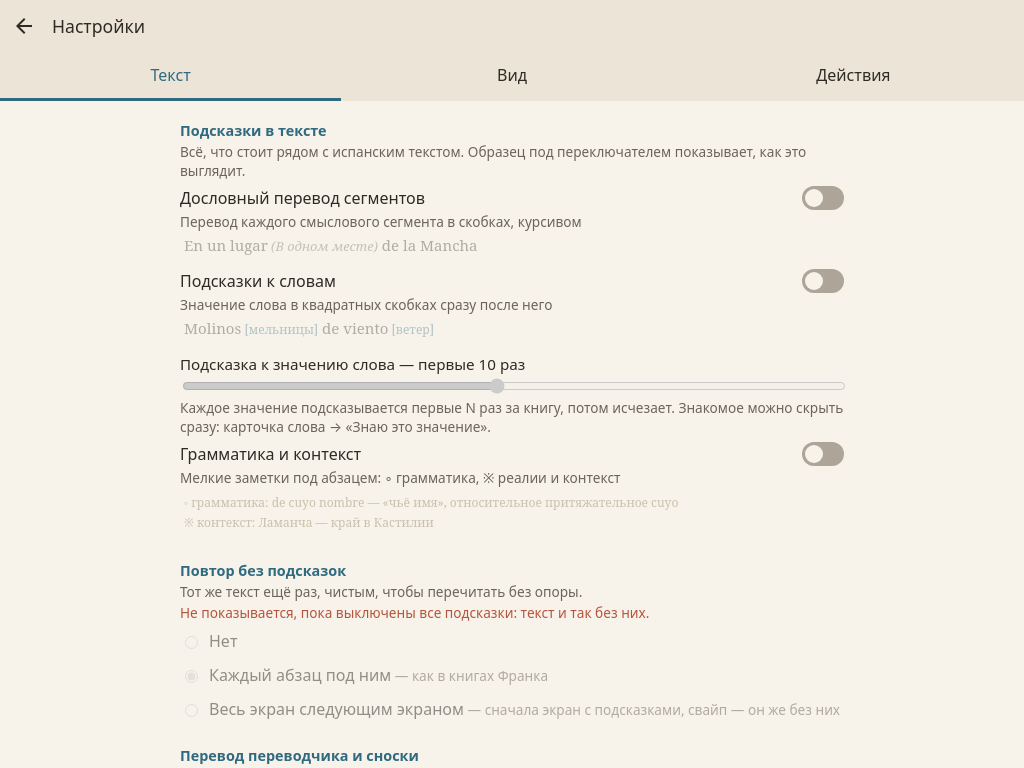
Scenario: reader screens › has settings tabs for text, look and actions, with samples and the repeat off while every hint is off
The image size is (1024, 768).
Earlier steps of the test are not shown.
Later steps or results of the test are not shown.
Expected: the text with test id "repeat-off" is shown, left=180, top=603, right=649, bottom=622
Click the tab "Вид".
click(512, 76)  # box left=341, top=52, right=683, bottom=101
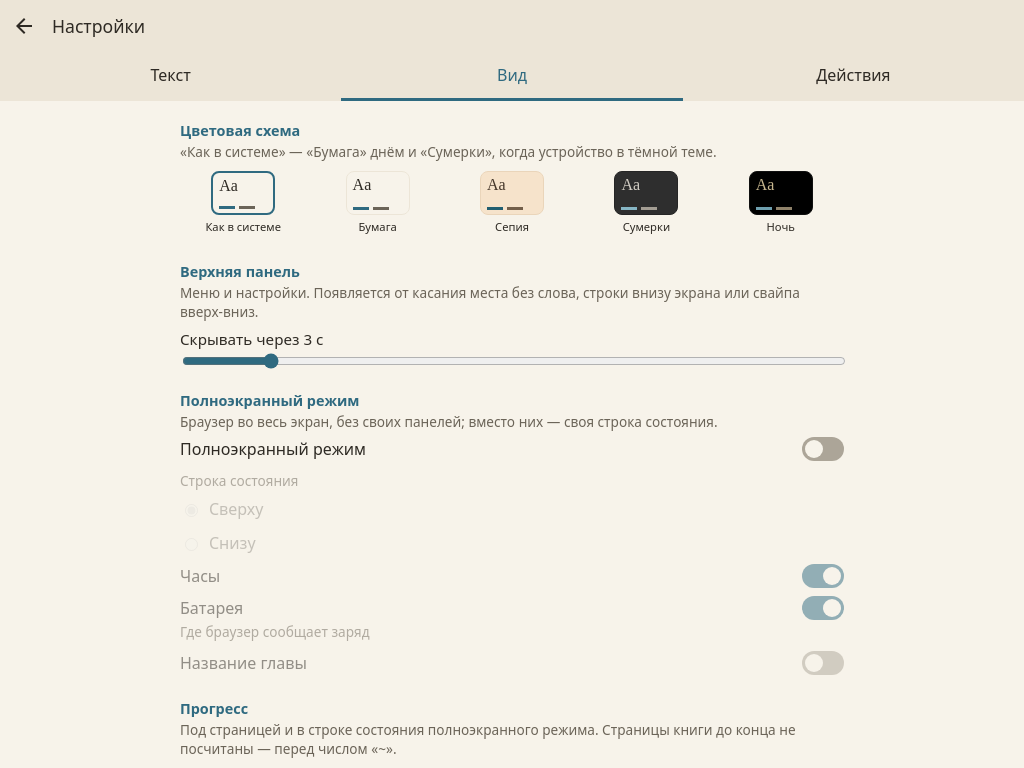
Expected: the switch labelled "Полноэкранный режим" is shown, left=802, top=437, right=844, bottom=461
